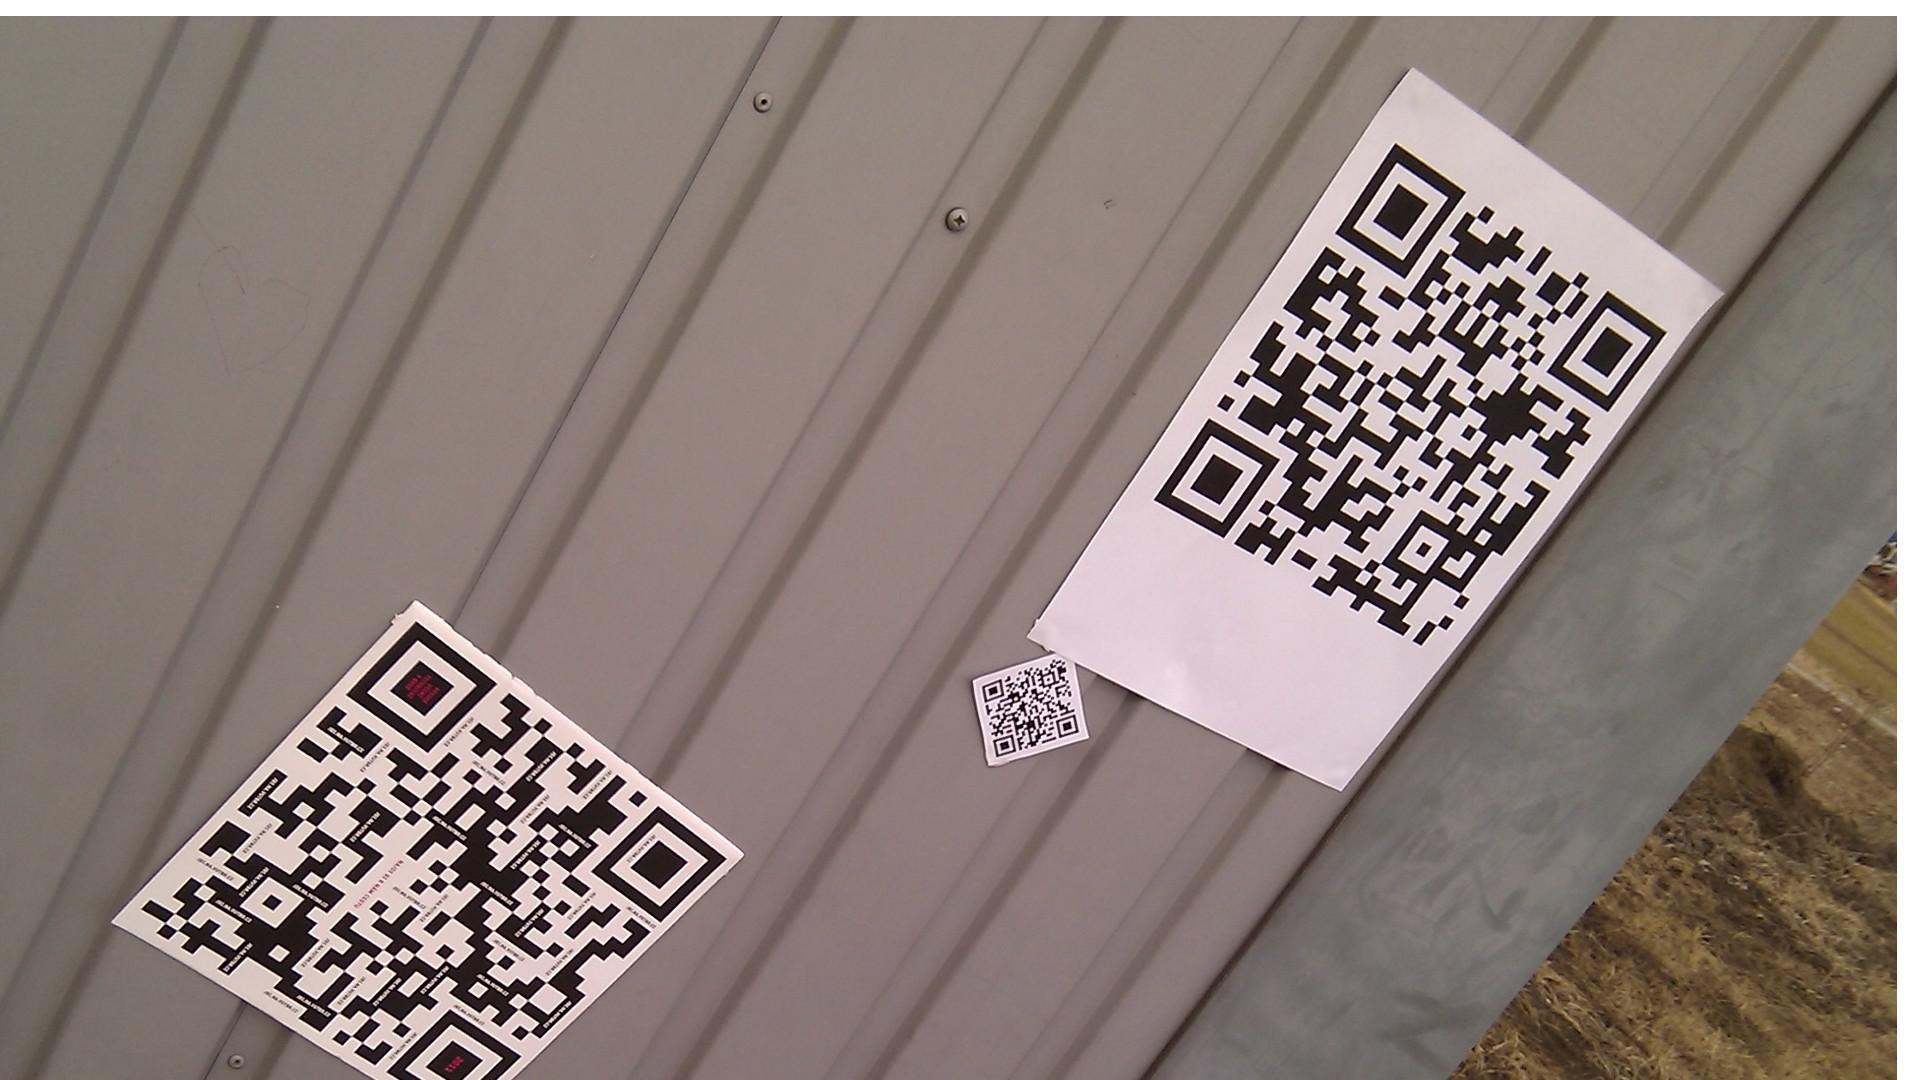Finder pattern: (345, 626, 498, 750), (1337, 140, 1468, 281), (592, 804, 727, 926), (1156, 417, 1280, 542), (1547, 290, 1671, 411), (386, 1007, 520, 1079), (992, 733, 1018, 764), (1054, 712, 1081, 740), (978, 678, 1005, 704)
